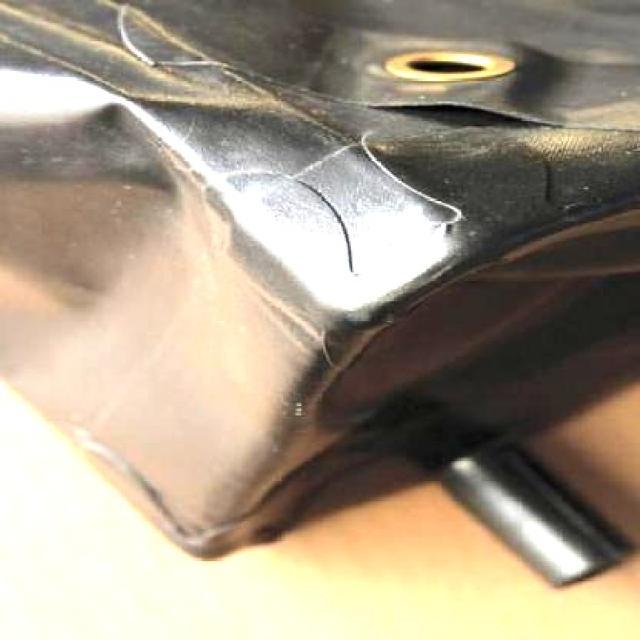crack: (295, 180, 389, 275)
